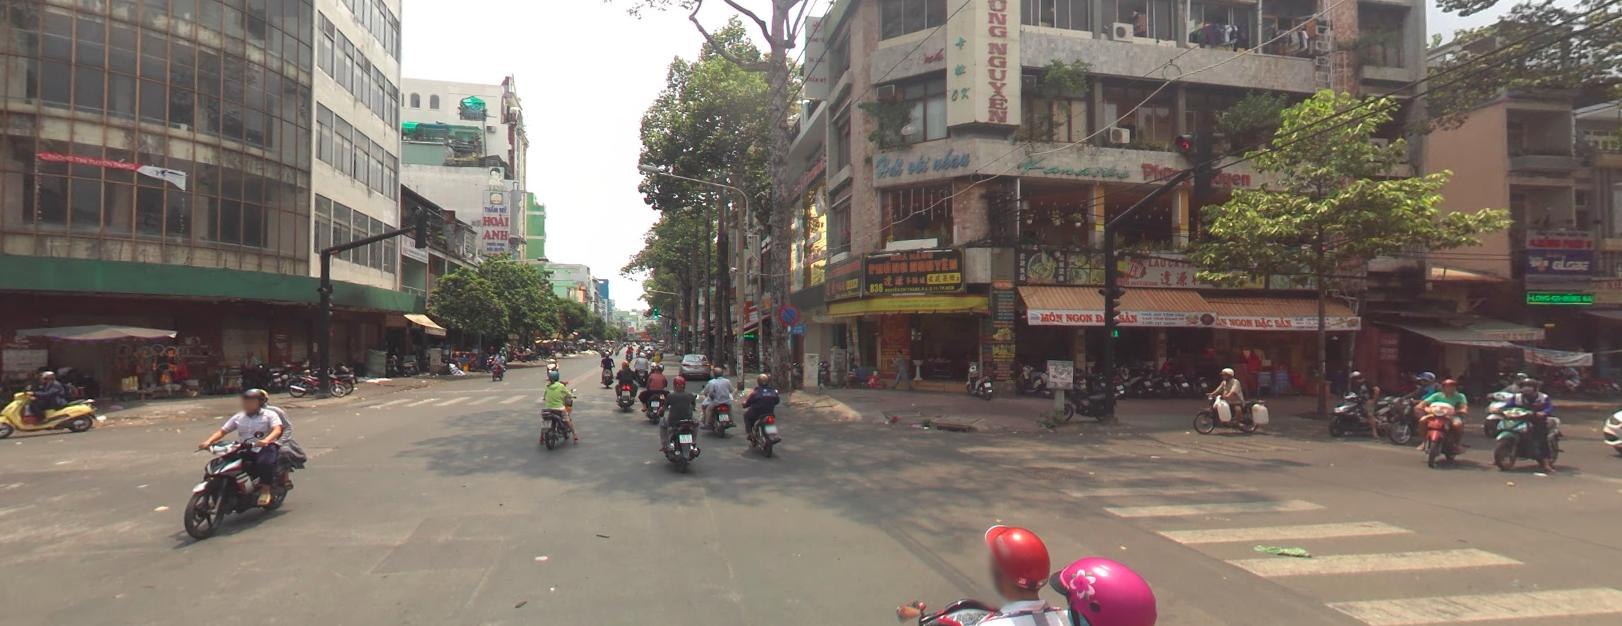Cam dung va do: (779, 303, 799, 324)
